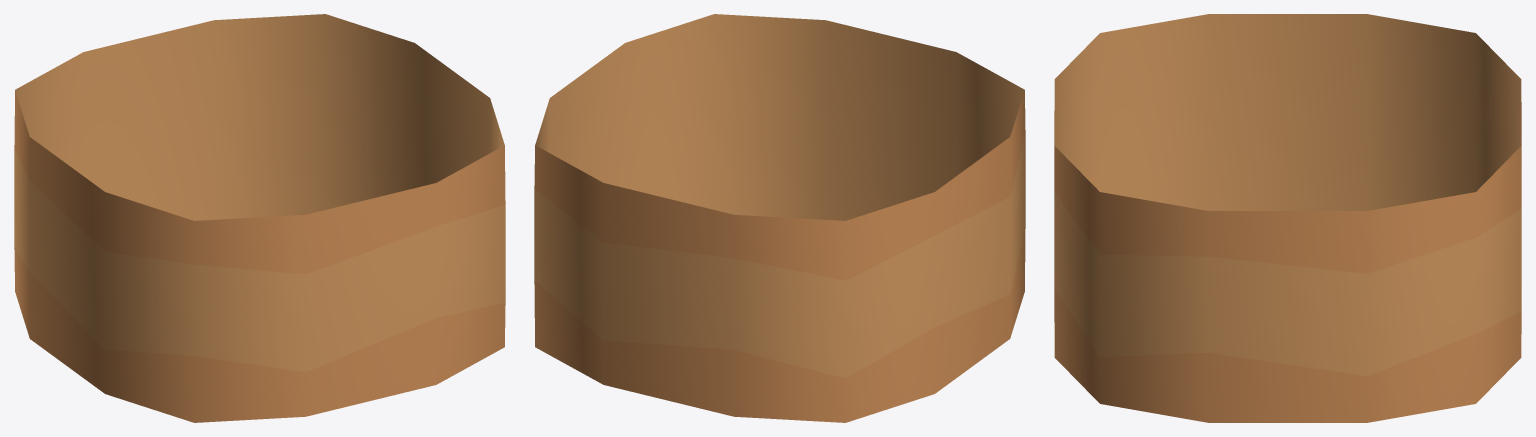
File: ground 02 tile.fbx
3 renders of one model, left to right at view 1: azimuth 30°, elevation 25°; view 2: azimuth 150°, elevation 25°; view 3: azimuth 270°, elevation 25°, orthographic. The views are drawn at different scales.
Parts seen in each view (by area): view 1: ground 02 tile, ground 02 tile low; view 2: ground 02 tile, ground 02 tile low; view 3: ground 02 tile, ground 02 tile low.
Boxes of the visible parts, left/top/right/bottom form: ground 02 tile: left=14, top=90, right=505, bottom=422; ground 02 tile low: left=15, top=14, right=504, bottom=220; ground 02 tile: left=534, top=90, right=1025, bottom=422; ground 02 tile low: left=535, top=14, right=1024, bottom=220; ground 02 tile: left=1054, top=102, right=1521, bottom=422; ground 02 tile low: left=1054, top=14, right=1521, bottom=210.
Size of the model in its own units: 400 by 200 by 400.
Materials: 1 (1 with a texture image).
